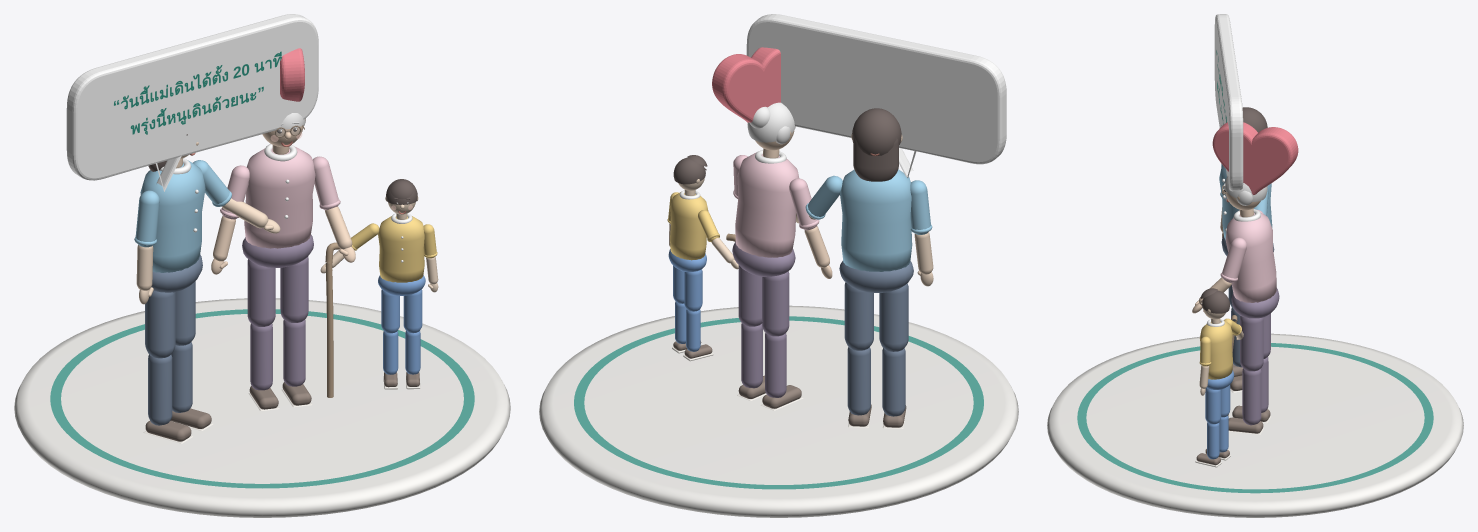
Rendered from 11-family-support.glb.
3 renders of one model, left to right at view 1: azimuth 30°, elevation 25°; view 2: azimuth 150°, elevation 25°; view 3: azimuth 270°, elevation 25°, orthographic. The views are drawn at different scales.
Size of the model in its own units: 2.76 by 2.5 by 2.76.
75 materials, 1 textured.
